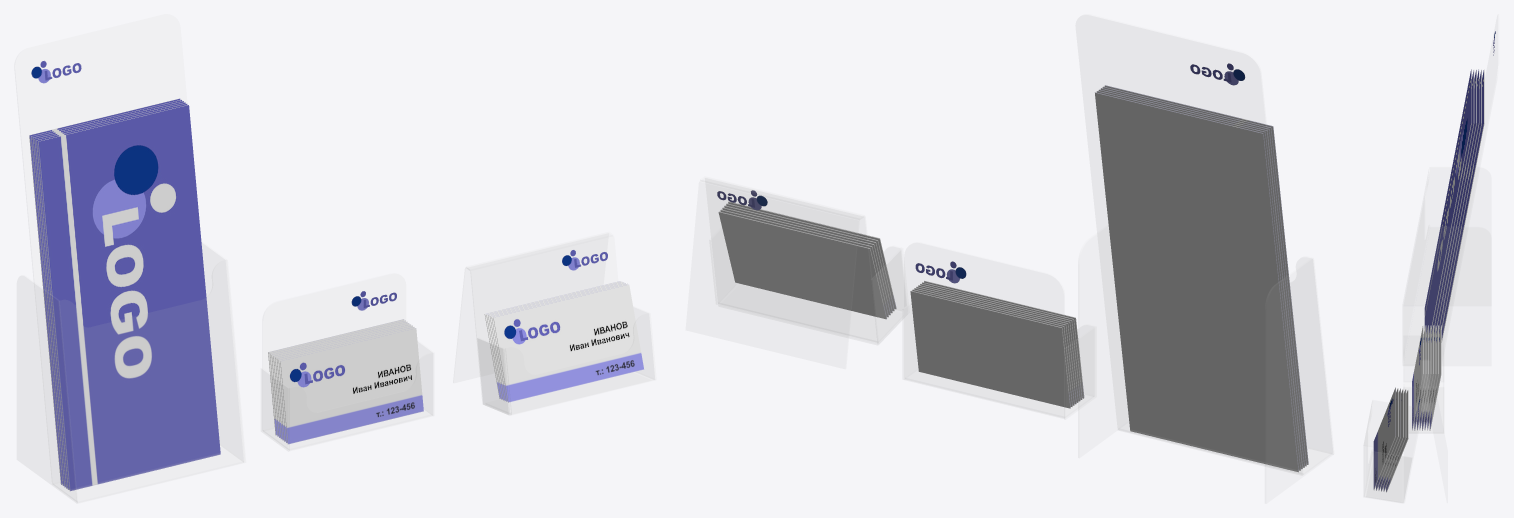
File: brand-identity.glb
3 renders of one model, left to right at view 1: azimuth 30°, elevation 25°; view 2: azimuth 150°, elevation 25°; view 3: azimuth 270°, elevation 25°, orthographic. The views are drawn at different scales.
Parts seen in each view (by area): view 1: Object_7, Object_8, Object_4, Object_11, Object_6; view 2: Object_9, Object_4, Object_2, Object_11, Object_8, Object_7, Object_6; view 3: Object_4, Object_7, Object_8, Object_11, Object_9, Object_2.
Boxes of the visible parts, <box> form: Object_7: <box>29,98,220,491</box>; Object_8: <box>268,281,644,444</box>; Object_4: <box>34,232,654,502</box>; Object_11: <box>29,99,627,490</box>; Object_6: <box>31,60,607,310</box>; Object_9: <box>1095,86,1308,472</box>; Object_4: <box>701,177,1332,475</box>; Object_2: <box>718,202,1083,408</box>; Object_11: <box>719,85,1308,470</box>; Object_8: <box>720,202,1083,407</box>; Object_7: <box>1095,85,1308,470</box>; Object_6: <box>717,63,1245,283</box>; Object_4: <box>1364,167,1490,502</box>; Object_7: <box>1424,69,1483,339</box>; Object_8: <box>1373,326,1440,491</box>; Object_11: <box>1374,69,1484,492</box>; Object_9: <box>1431,71,1484,339</box>; Object_2: <box>1374,327,1441,490</box>.
Size of the model in its own units: 367 by 257 by 107.
Materials: 7 (3 with a texture image).
